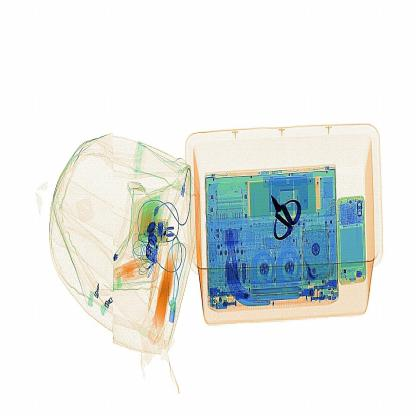gun: (270, 187, 312, 243)
